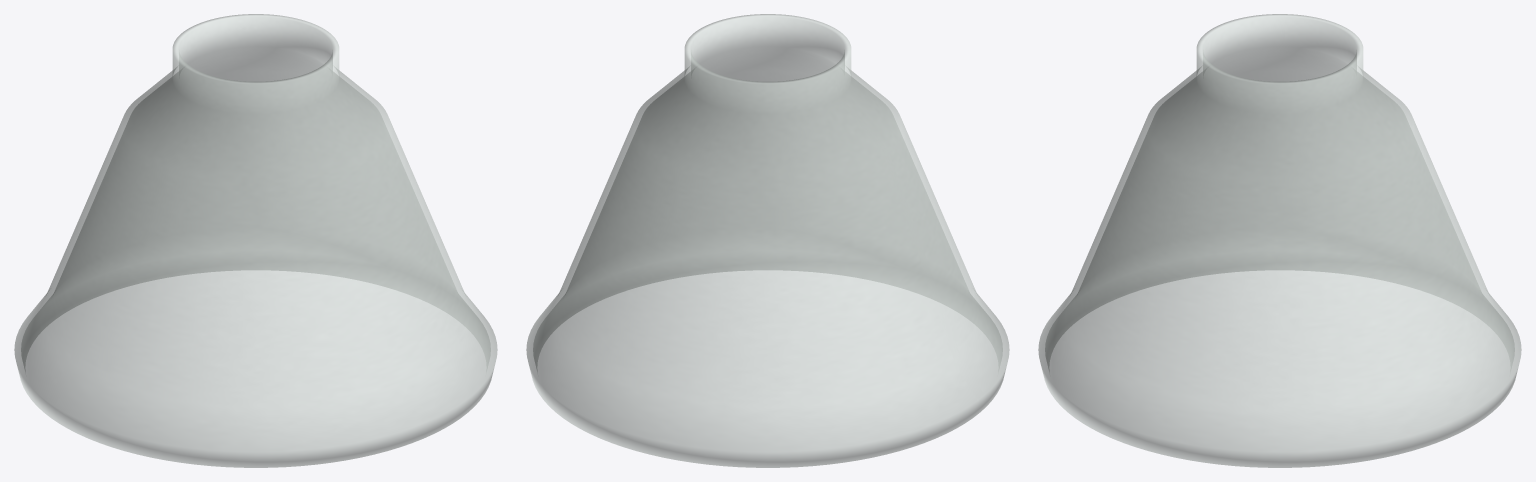
File: intact.glb
3 renders of one model, left to right at view 1: azimuth 30°, elevation 25°; view 2: azimuth 150°, elevation 25°; view 3: azimuth 270°, elevation 25°, orthographic.
Parts seen in each view (by area): view 1: lamp-shade-component-000-frosted; view 2: lamp-shade-component-000-frosted; view 3: lamp-shade-component-000-frosted.
Boxes of the visible parts, left/top/right/bottom form: lamp-shade-component-000-frosted: left=14, top=14, right=497, bottom=467; lamp-shade-component-000-frosted: left=526, top=14, right=1009, bottom=467; lamp-shade-component-000-frosted: left=1038, top=14, right=1521, bottom=467.
Bounding box in the file's own units: 0.22 × 0.16 × 0.22.
Materials: 1 (1 with a texture image).
